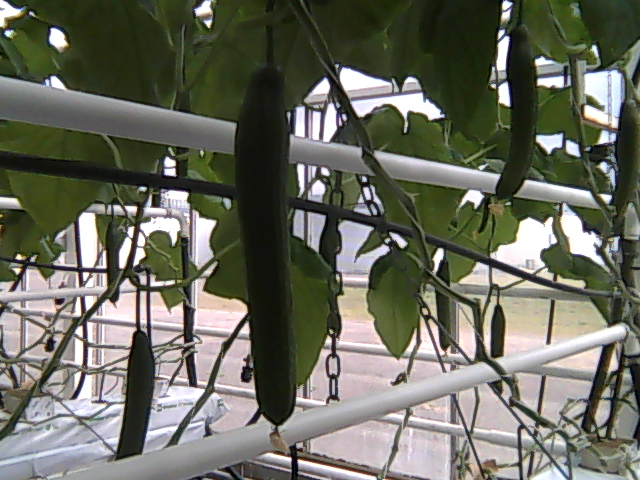concombre: (233, 59, 300, 456)
